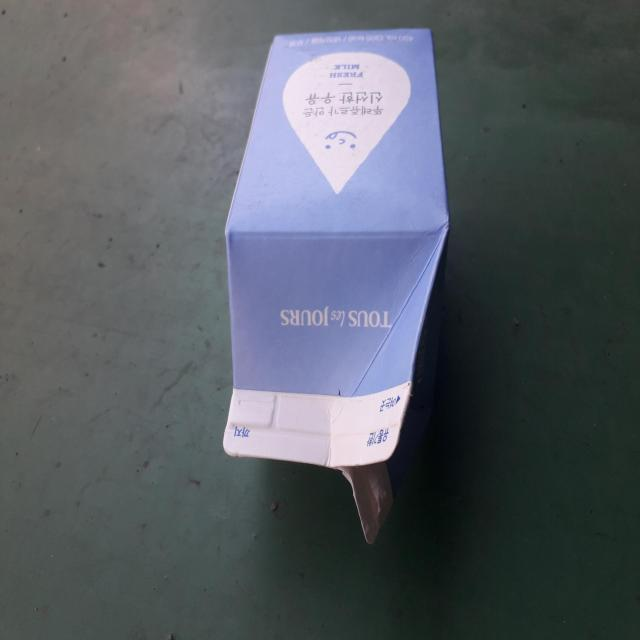paperpack: (223, 28, 450, 544)
